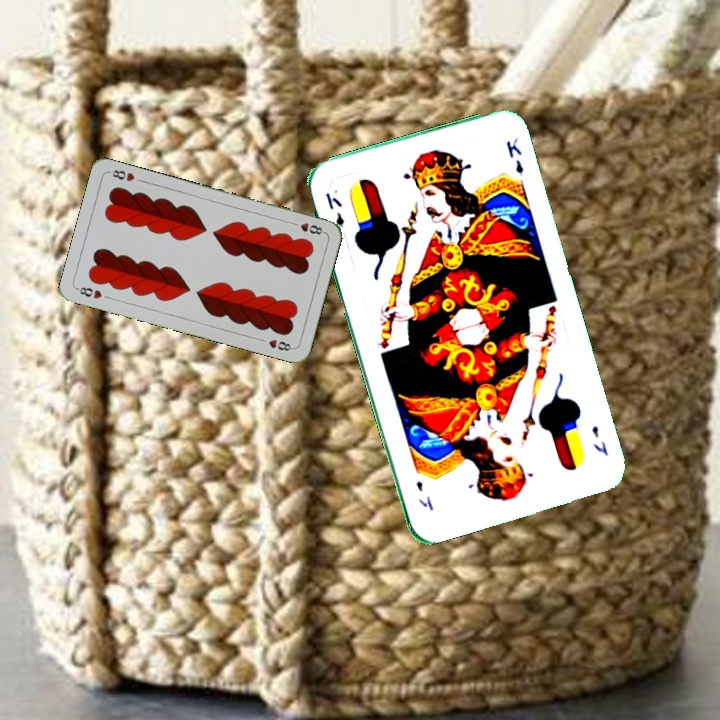EK: (321, 189, 348, 229), (587, 421, 610, 459)
H8: (287, 218, 327, 237), (73, 283, 104, 301)
